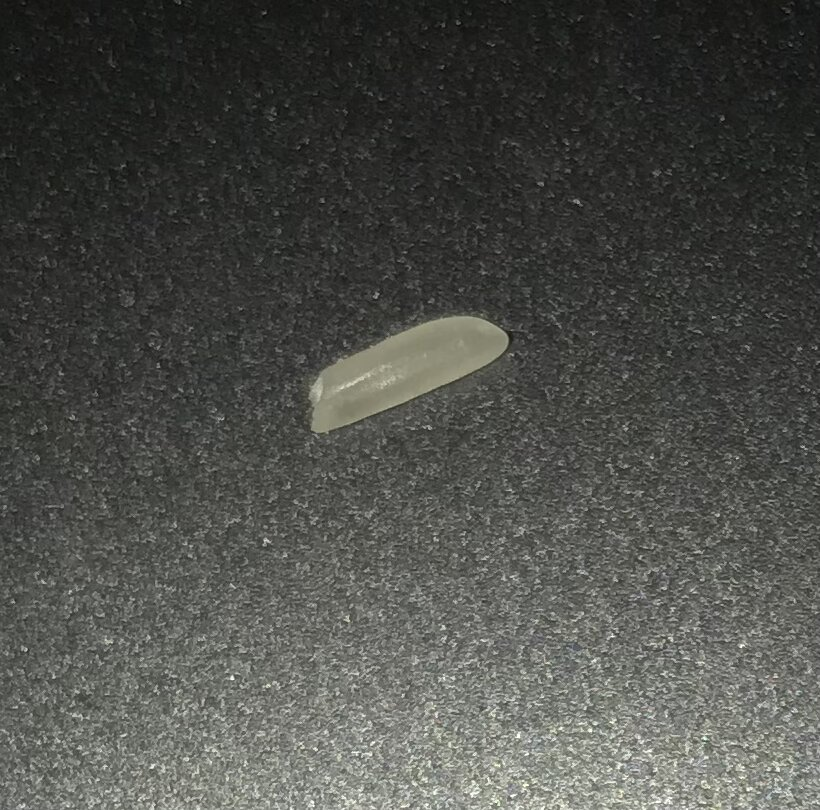Gao Long Lai: (306, 308, 512, 443)
